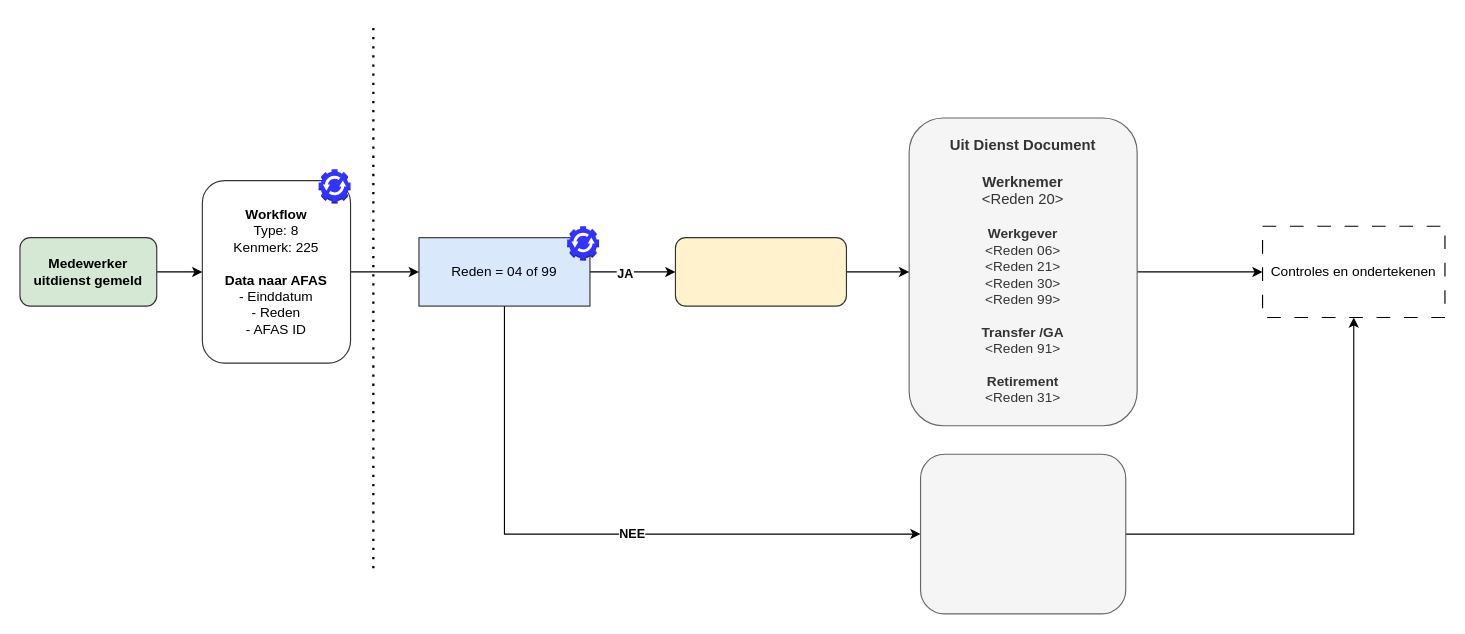
The diagram is 1465 pixels wide and 634 high, and some of its shapes have lost their labels. Each missing label, with the centre of its shape:
"Invullen Reden en/of Voorwaarden" belongs at (760,271).
"Uit Dienst Document Voorwaarden <Reden 04> Andere <Reden 99>" belongs at (1022,533).
